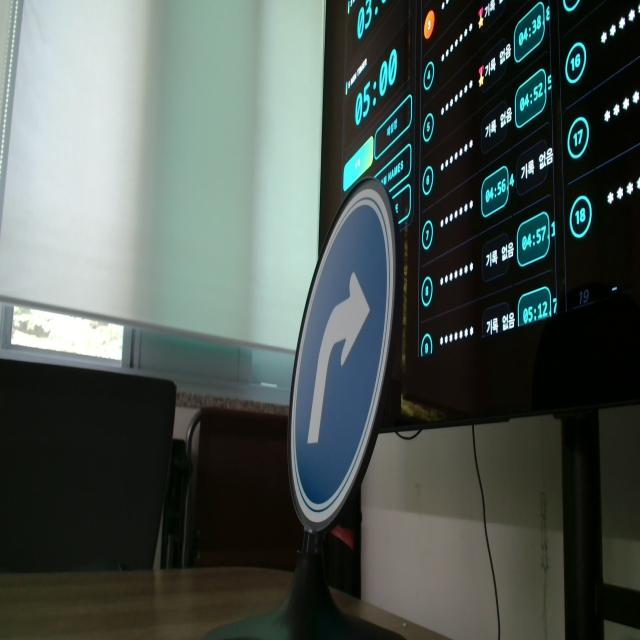right_dierection: (289, 163, 449, 617)
